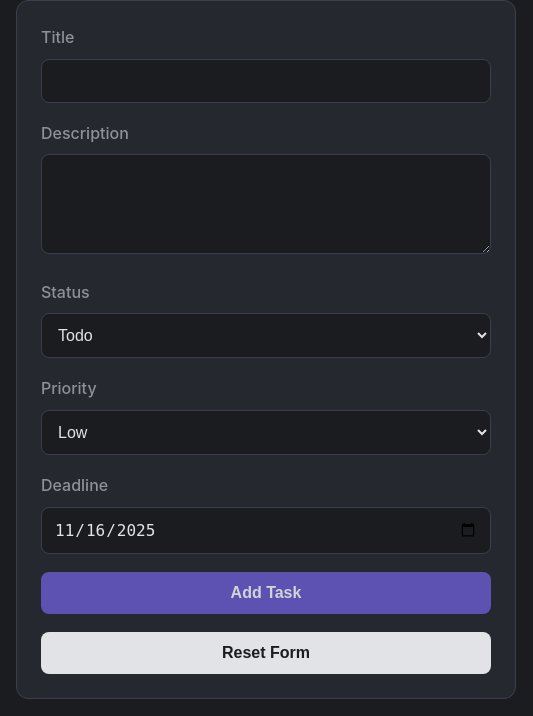
Test: CreateTaskForm › should enable submit when valid
Type "My Task" into the field labelled "Title" at (266, 81), box x1=41 y1=59 x2=491 y2=103
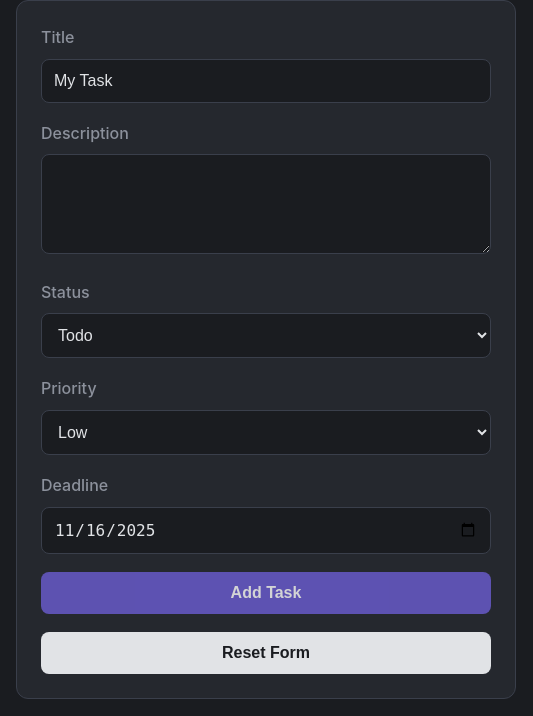
Type "Some long valid description" into the text box labelled "Description" at (266, 204), box x1=41 y1=154 x2=491 y2=254
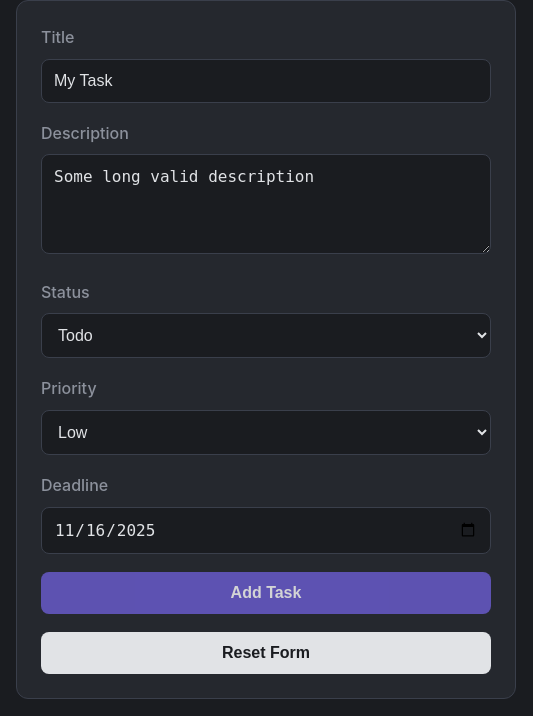
Type "2099-12-31" into the date field labelled "Deadline" at (266, 530), box x1=41 y1=507 x2=491 y2=554
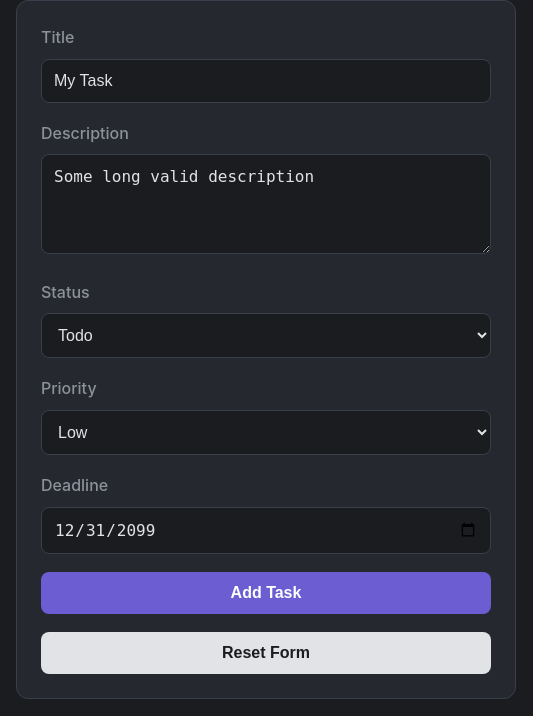
expect the button "Add Task" is enabled: met, box x1=41 y1=572 x2=491 y2=614
